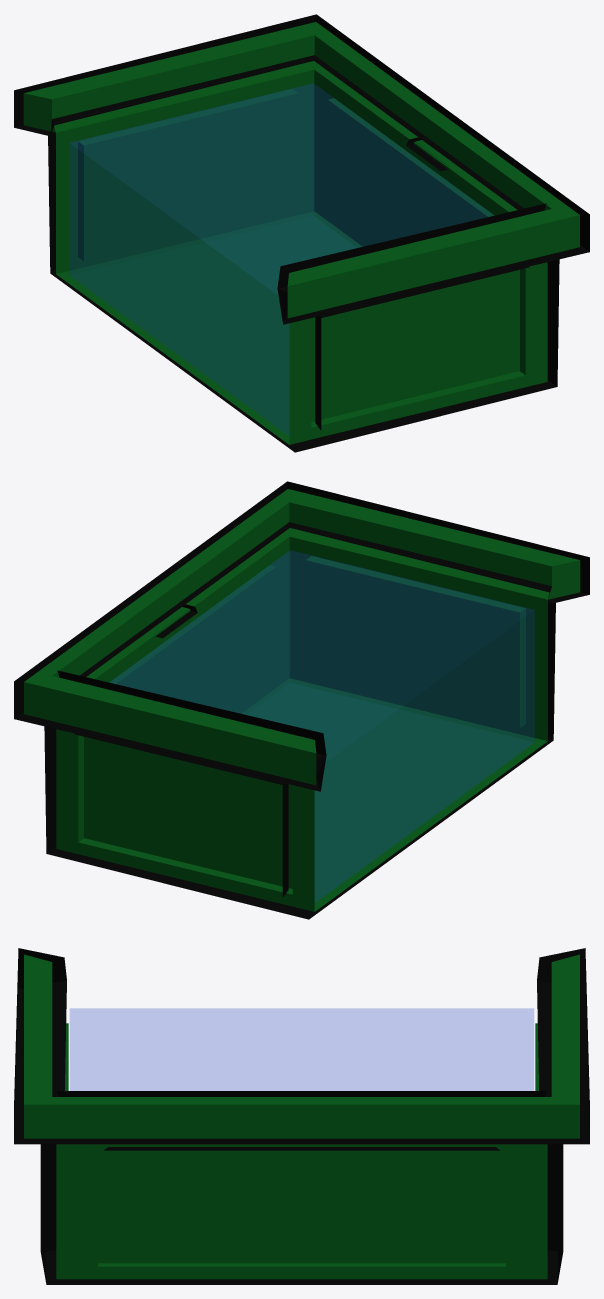
The model's file is Piscina Pastilha.fbx.
The picture shows the model from 3 angles, top to bottom: view 1: azimuth 30°, elevation 25°; view 2: azimuth 150°, elevation 25°; view 3: azimuth 270°, elevation 25°; orthographic projection. The views are drawn at different scales.
Visible parts, largest first — view 1: Piscina, Água; view 2: Piscina, Água; view 3: Piscina, Água.
Part boxes in pixels (x1,y1,x2,y2): Piscina: [14, 14, 589, 452]; Água: [69, 83, 493, 435]; Piscina: [14, 481, 589, 919]; Água: [110, 550, 534, 902]; Piscina: [14, 948, 589, 1284]; Água: [70, 1008, 533, 1090].
Size of the model in its own units: 236 by 134 by 367.
